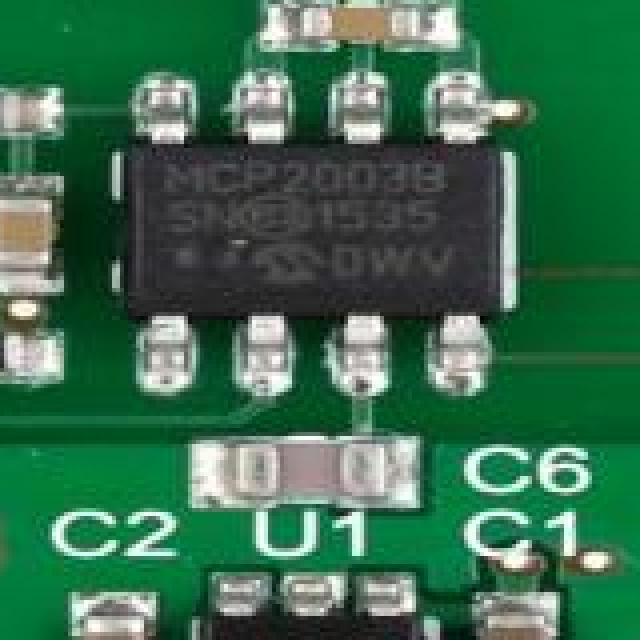IC: (140, 112, 526, 374), (208, 592, 444, 640)
capacitor: (216, 428, 434, 496), (264, 0, 432, 46), (0, 200, 60, 288), (48, 596, 152, 640), (472, 600, 572, 640)
resistor: (0, 88, 40, 136), (0, 332, 32, 376)
